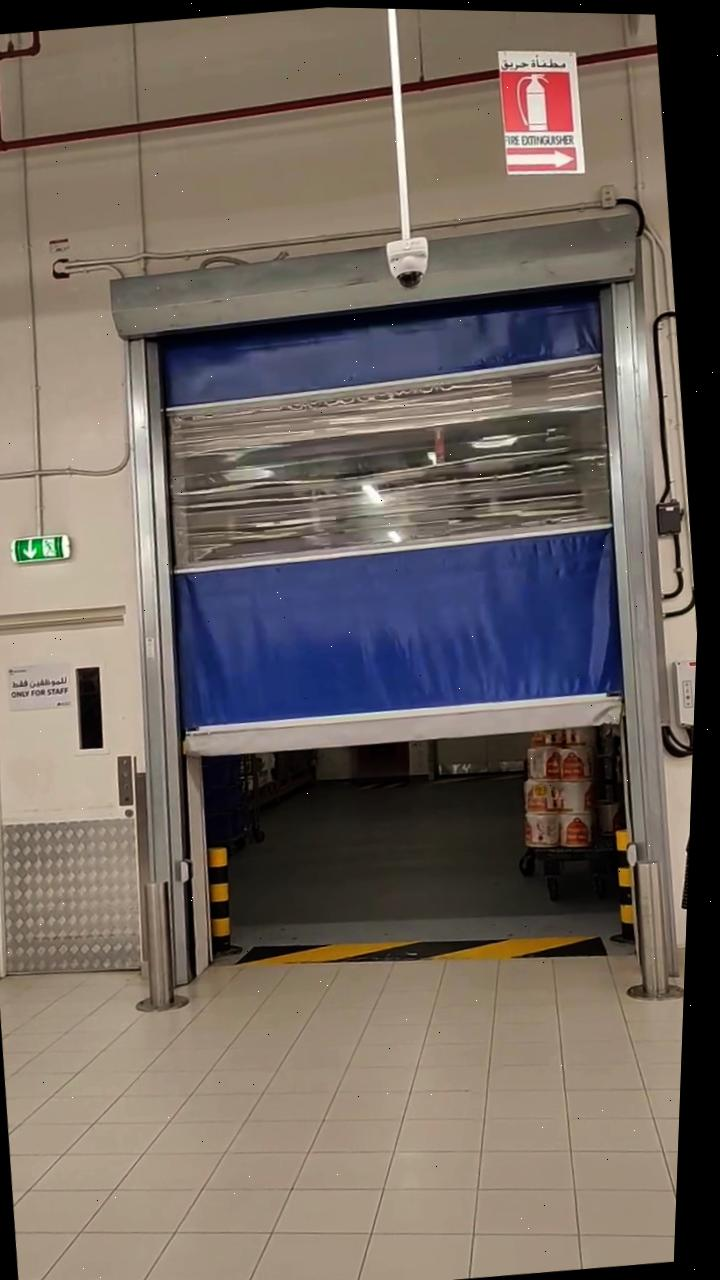Strip: (257, 895, 612, 988)
